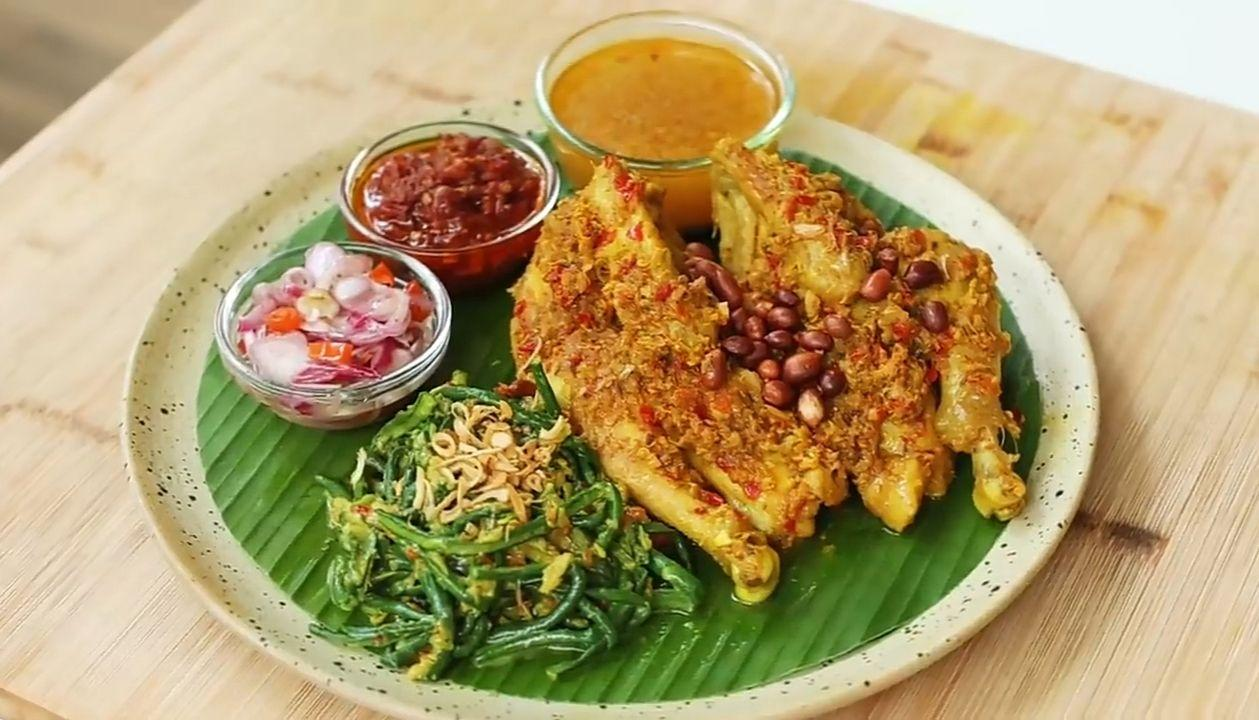ayam_betutu: (510, 141, 1026, 606)
